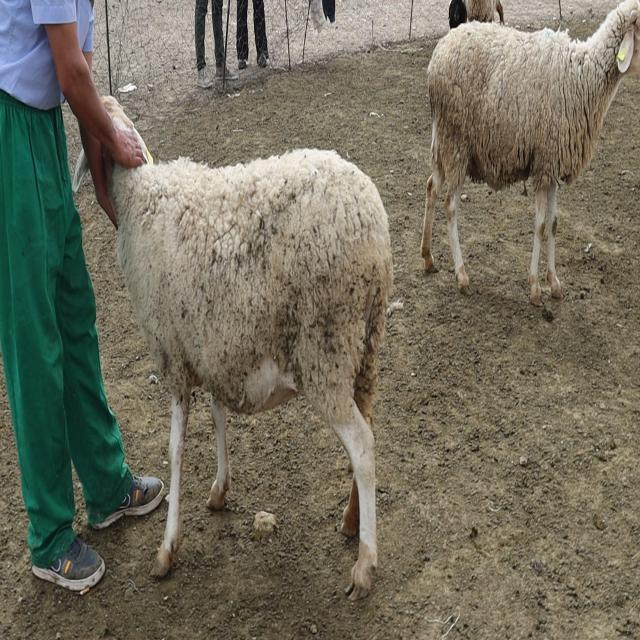Score_5: (72, 95, 393, 599)
